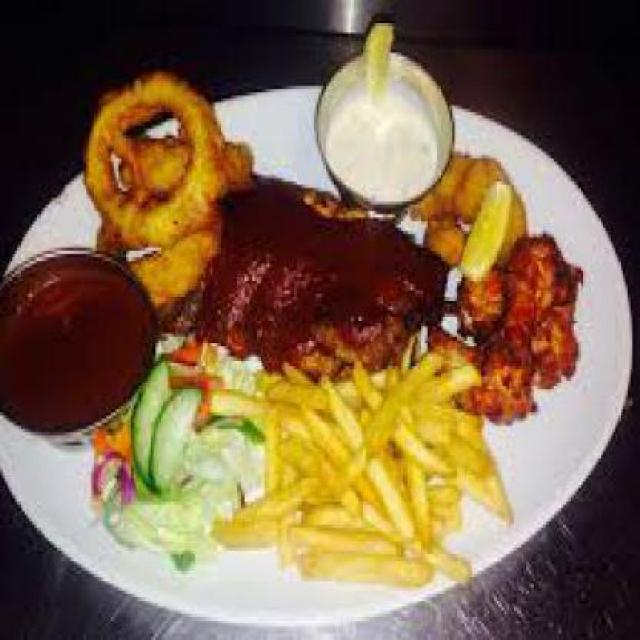chicken wings: (218, 165, 573, 412)
french fries: (217, 352, 521, 594)
onion rings: (76, 49, 238, 308)
